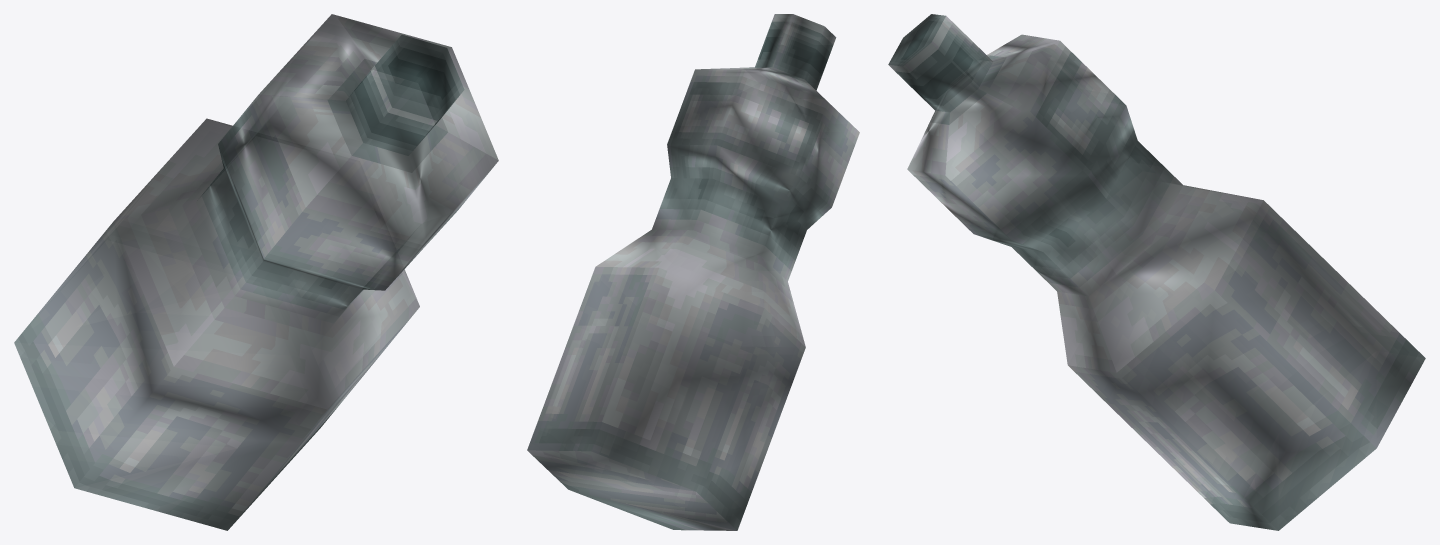
The picture shows the model from 3 angles, left to right: view 1: azimuth 30°, elevation 25°; view 2: azimuth 150°, elevation 25°; view 3: azimuth 270°, elevation 25°; orthographic projection. The views are drawn at different scales.
Parts seen in each view (by area): view 1: bottle; view 2: bottle; view 3: bottle.
Part boxes in pixels (<box>): bottle: <box>14,14,498,530</box>; bottle: <box>527,14,859,530</box>; bottle: <box>888,14,1425,530</box>.
Bounding box in the file's own units: 0.408 × 0.9878 × 0.9483.
Materials: 1 (1 with a texture image).
